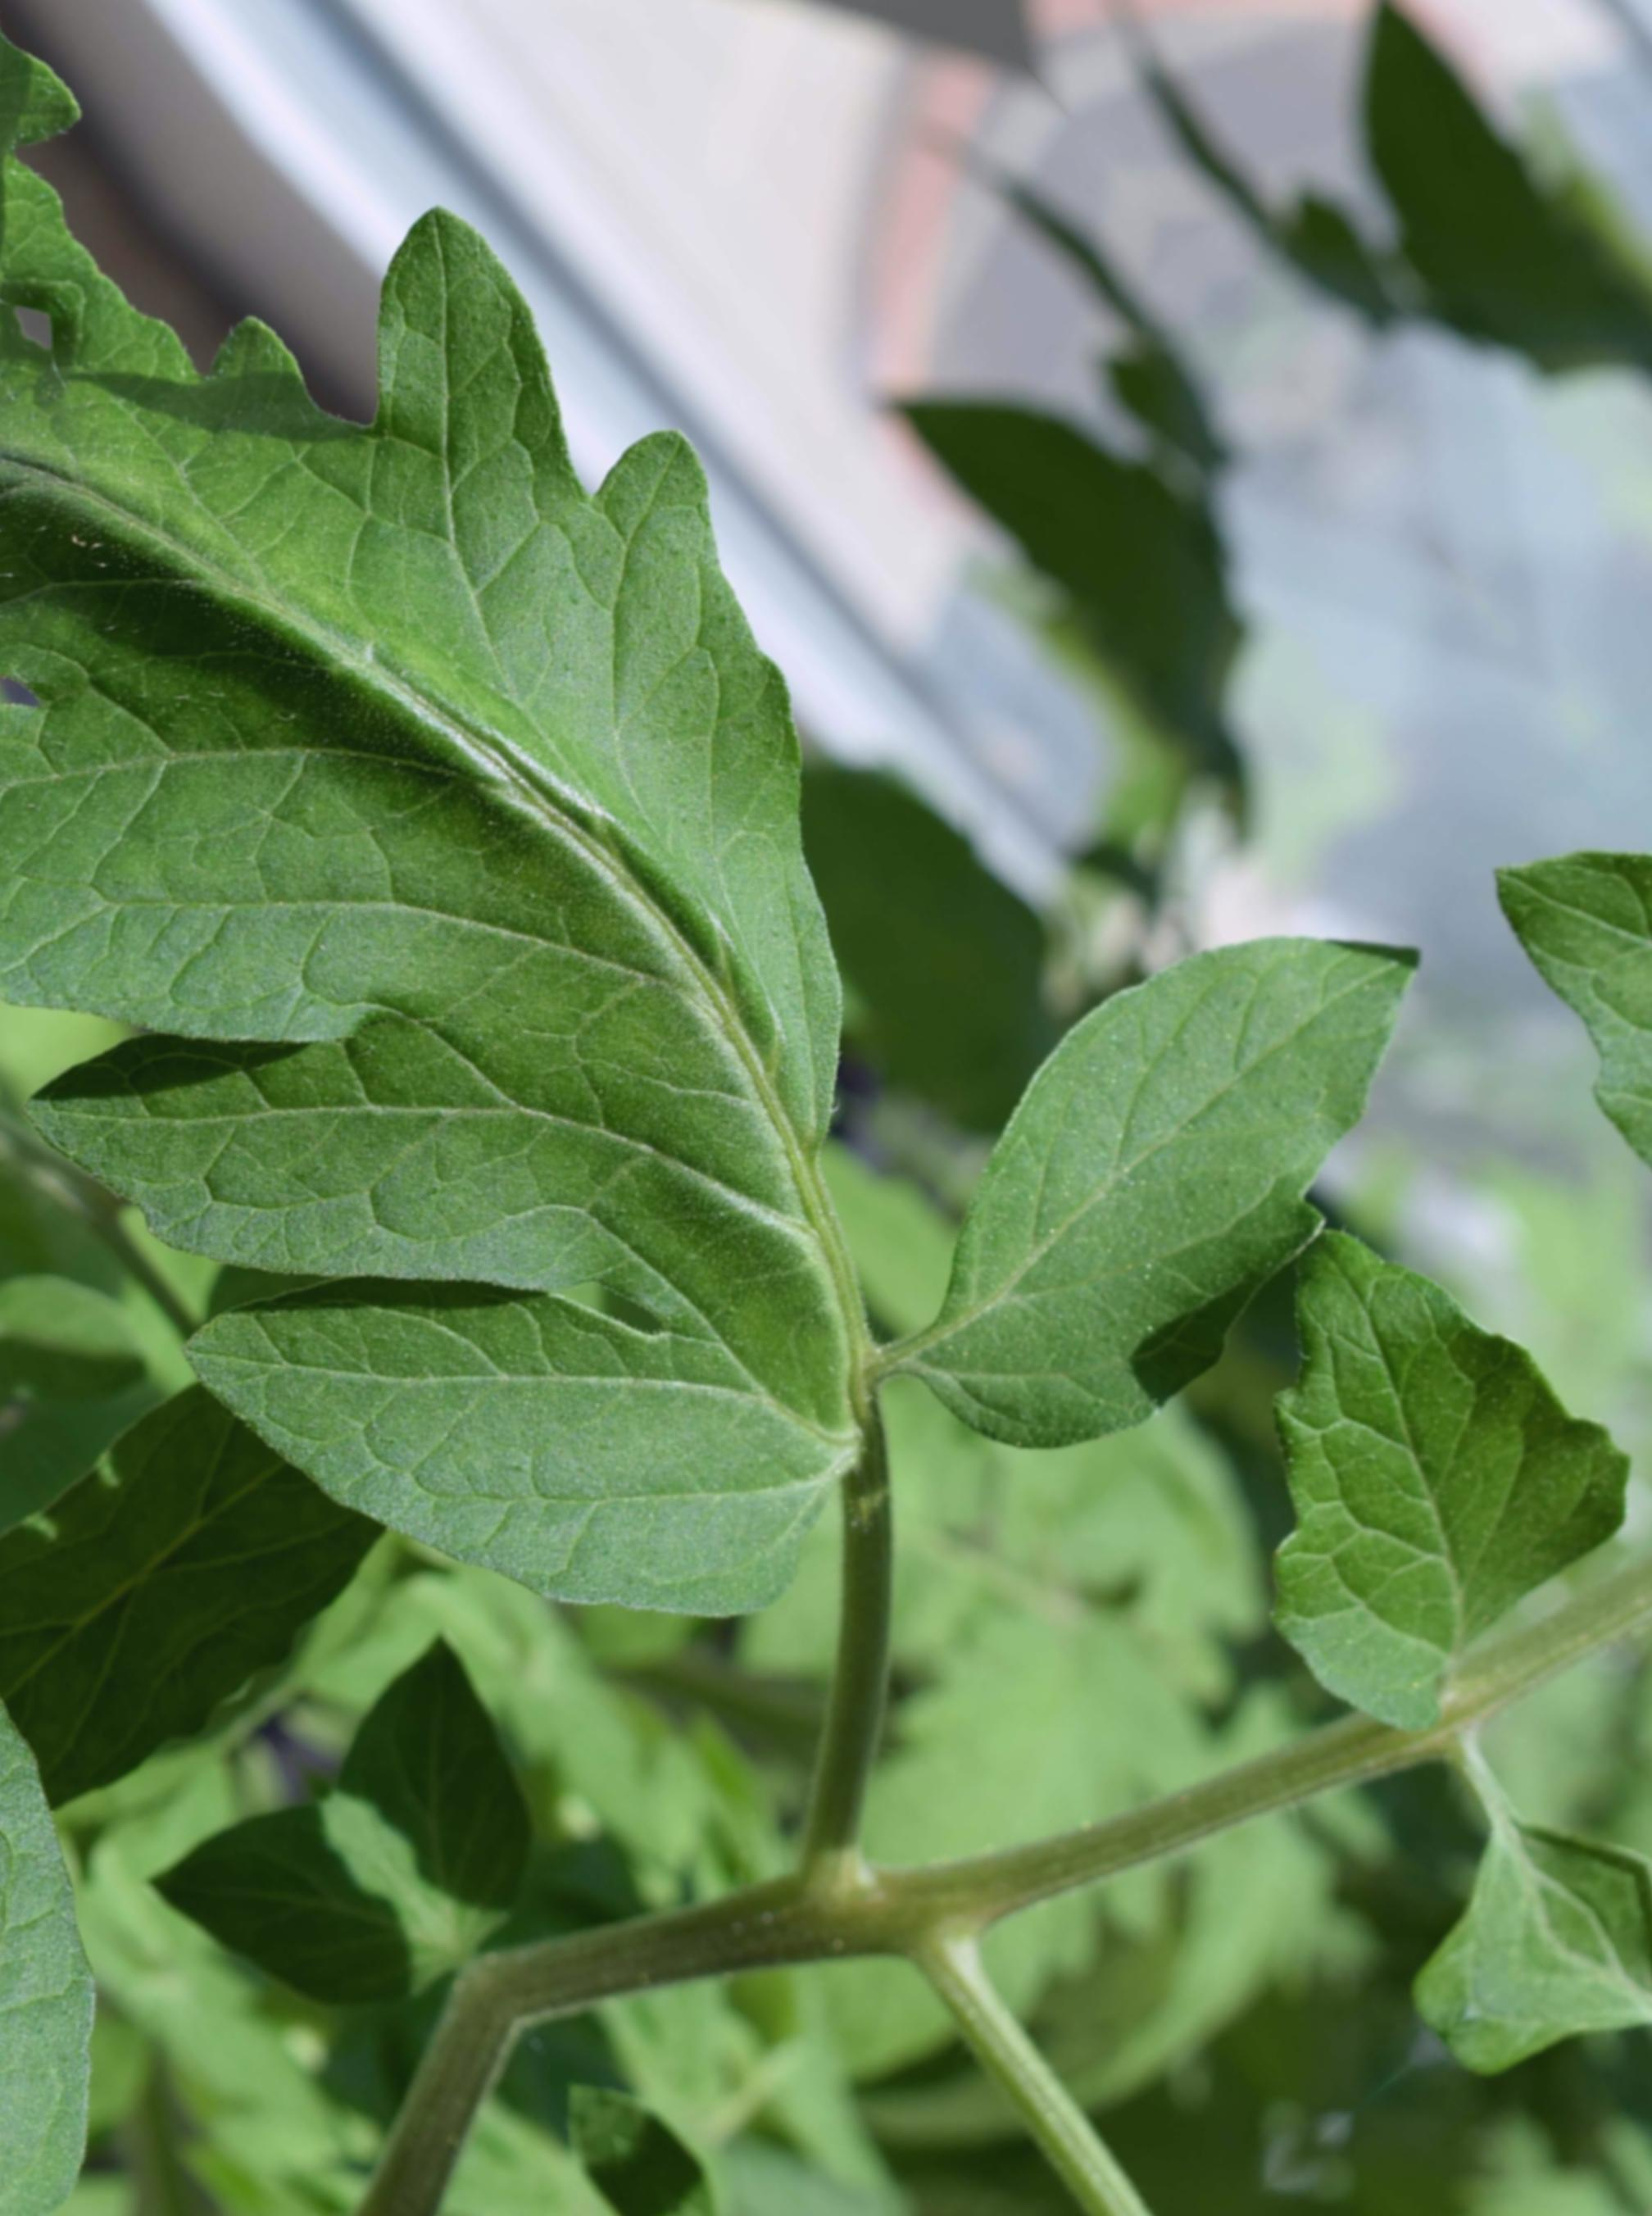Tomato leaf: (0, 101, 1275, 1935), (736, 817, 1515, 1565), (994, 1135, 1652, 1876), (1327, 682, 1652, 1442)
